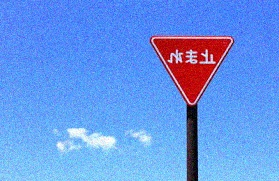Regulatory_sign_triangle: (147, 31, 233, 111)
